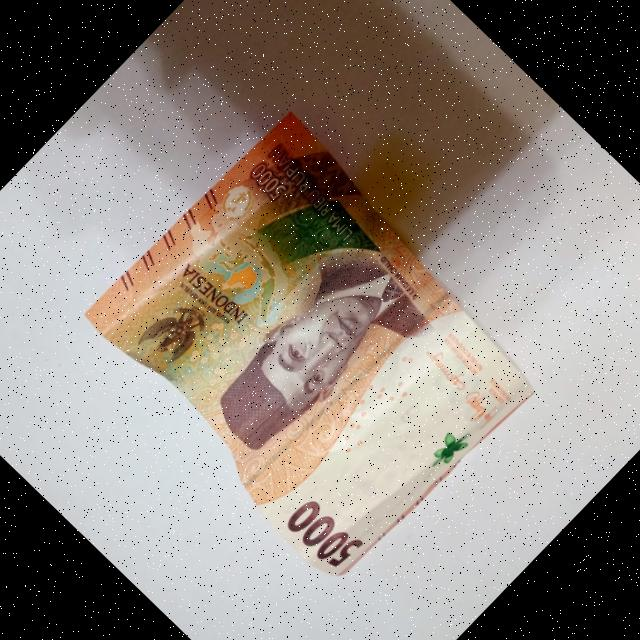5K: (54, 80, 574, 598)
